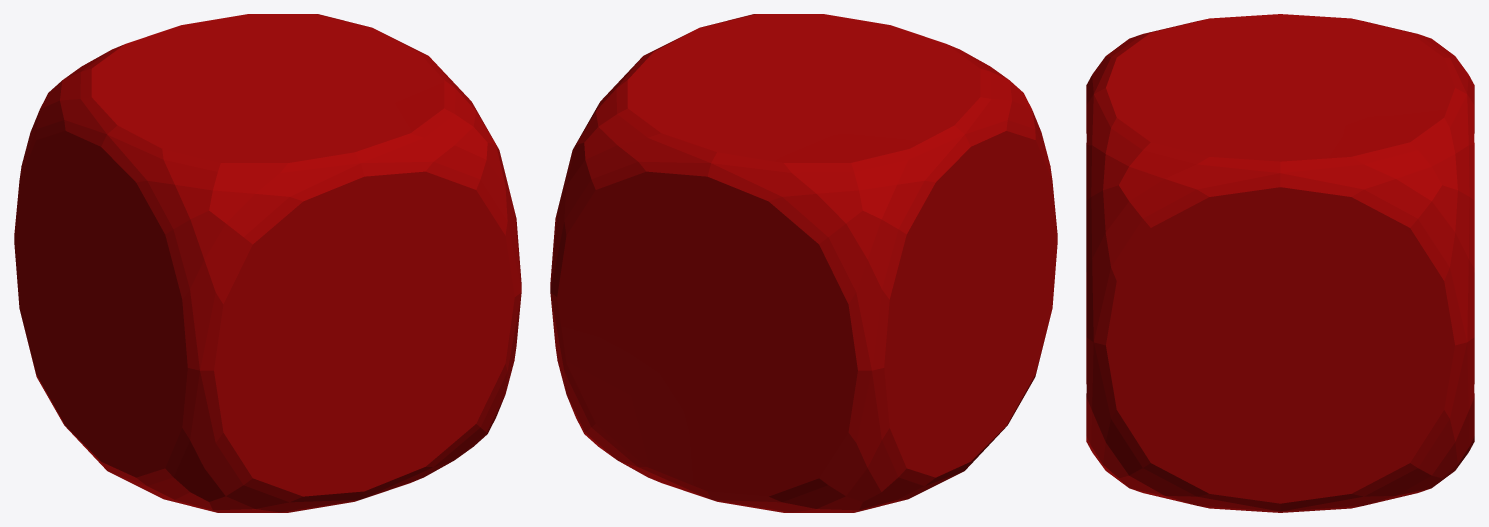
File: Dice-Collider.fbx
The picture shows the model from 3 angles, left to right: view 1: azimuth 30°, elevation 25°; view 2: azimuth 150°, elevation 25°; view 3: azimuth 270°, elevation 25°; orthographic projection.
Visible parts, largest first — view 1: Dice; view 2: Dice; view 3: Dice.
Boxes of the visible parts, <box> form: Dice: <box>14,14,521,512</box>; Dice: <box>550,14,1057,512</box>; Dice: <box>1086,14,1474,512</box>.
Size of the model in its own units: 99.16 by 99.16 by 99.16.
